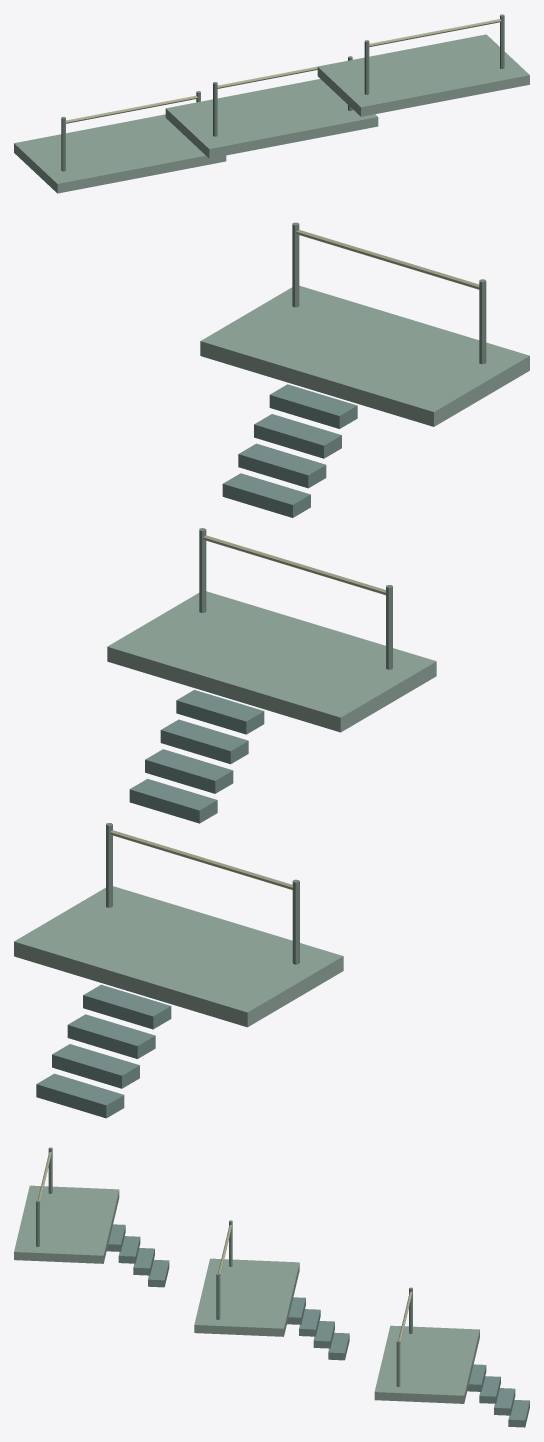
Rendered from trench_stairs.glb.
3 views of the same model, one above another, from view 1: azimuth 30°, elevation 25°; view 2: azimuth 150°, elevation 25°; view 3: azimuth 270°, elevation 25° (orthographic). The views are drawn at different scales.
Parts seen in each view (by area): view 1: trench_stairs; view 2: trench_stairs; view 3: trench_stairs.
Boxes of the visible parts, x1,y1,x2,y2 form: trench_stairs: [14, 14, 529, 193]; trench_stairs: [14, 222, 529, 1118]; trench_stairs: [14, 1147, 529, 1427].
Size of the model in its own units: 11.36 by 13.5 by 22.9.
